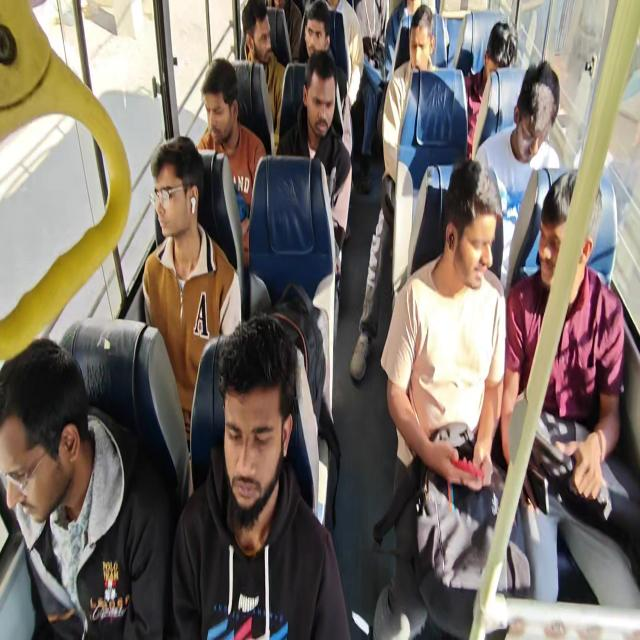person: (2, 1, 636, 638), (372, 158, 525, 638), (171, 313, 351, 638), (0, 336, 172, 638), (500, 168, 625, 506), (350, 4, 439, 382), (142, 135, 242, 451), (475, 60, 560, 284), (276, 50, 352, 294), (196, 57, 267, 268), (297, 0, 353, 160), (464, 21, 518, 160), (352, 0, 389, 194), (240, 0, 286, 146), (325, 0, 364, 108), (270, 0, 302, 62)
